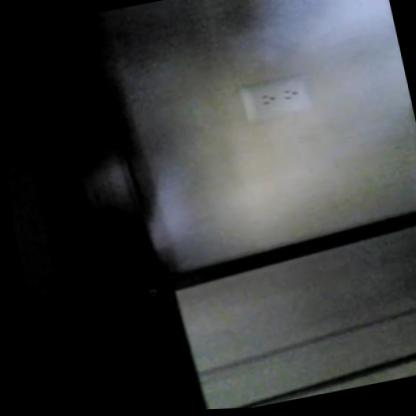OUTLET: (238, 73, 312, 122)
